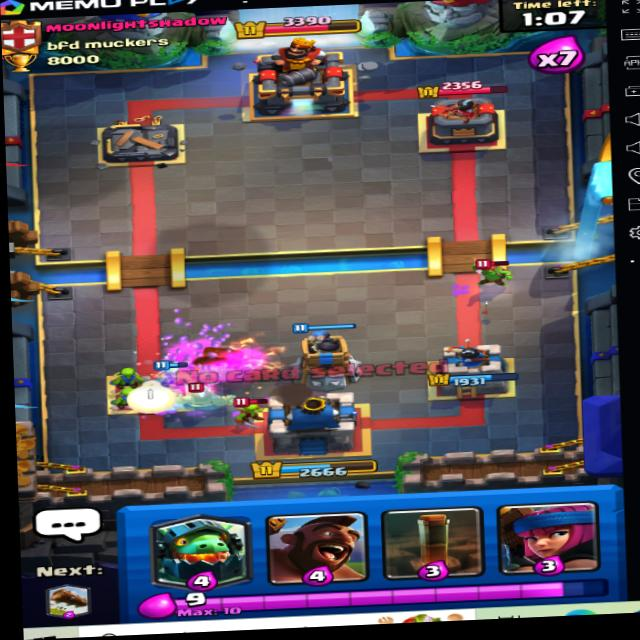goblin: (233, 399, 279, 432)
spear-goblin: (475, 256, 514, 291)
